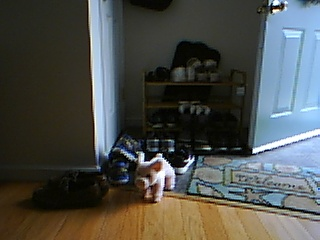piggy: (134, 150, 176, 204)
